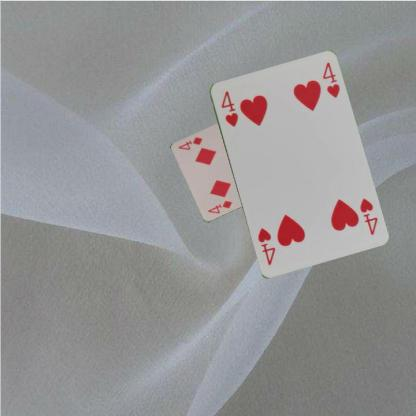4d: (205, 198, 234, 214)
4h: (356, 196, 378, 236), (218, 88, 239, 128)
